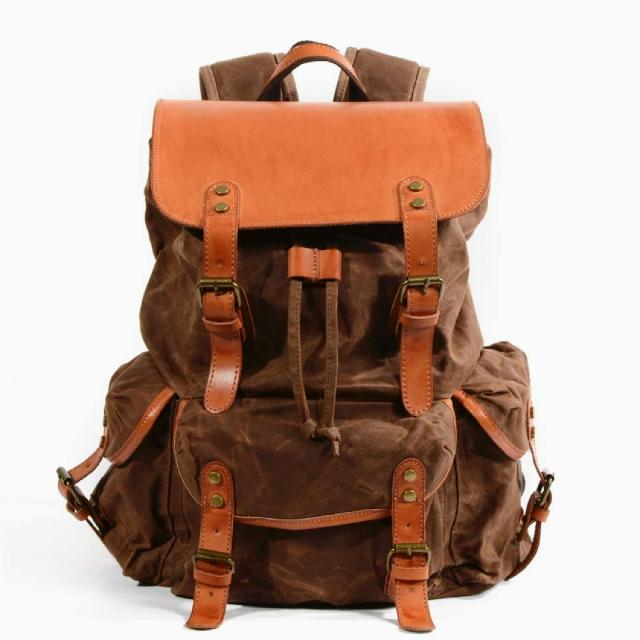backpack: (58, 41, 556, 631)
